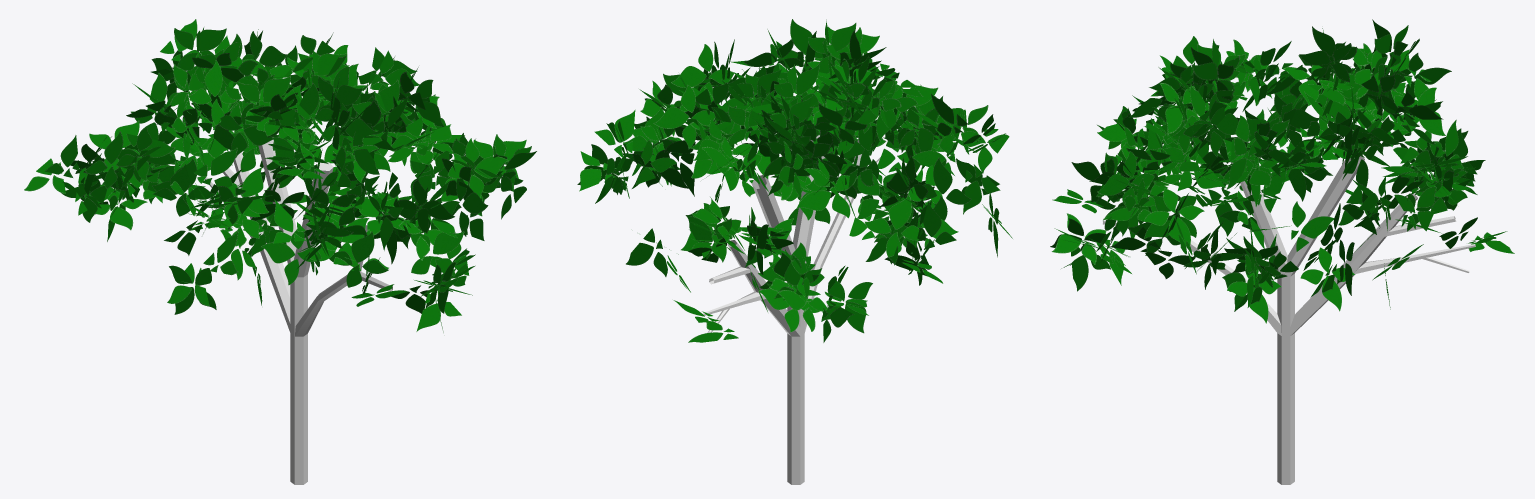
Rendered from MediumLod.fbx.
3 views of the same model, side by side, from view 1: azimuth 30°, elevation 25°; view 2: azimuth 150°, elevation 25°; view 3: azimuth 270°, elevation 25° (orthographic).
Visible parts, largest first — view 1: Plane.001, Cylinder.001; view 2: Plane.001, Cylinder.001; view 3: Plane.001, Cylinder.001.
Part boxes in pixels (box(x1,y1,x2,y2)): Plane.001: box(24, 19, 536, 332); Cylinder.001: box(204, 140, 392, 484); Plane.001: box(577, 19, 1012, 342); Cylinder.001: box(701, 135, 880, 484); Plane.001: box(1050, 19, 1514, 323); Cylinder.001: box(1102, 156, 1475, 484).
Size of the model in its own units: 542 by 553 by 539.
